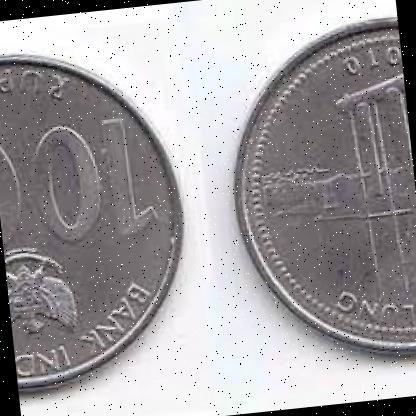coin_1000_e2010: (0, 43, 191, 395), (230, 16, 416, 362)
